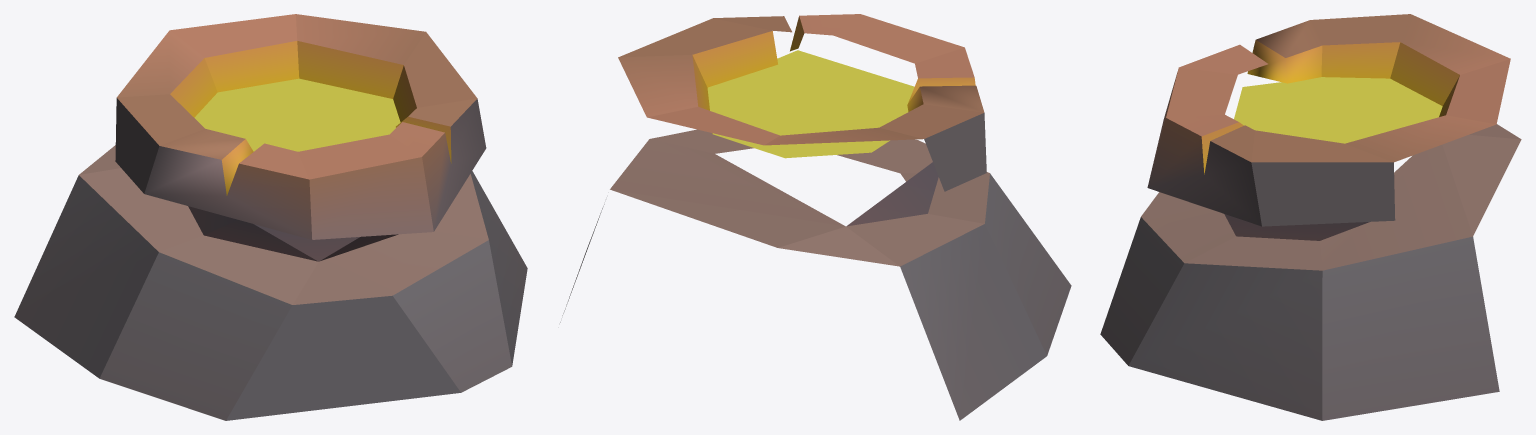
Rendered from LavaGeyser.glb.
The picture shows the model from 3 angles, left to right: view 1: azimuth 30°, elevation 25°; view 2: azimuth 150°, elevation 25°; view 3: azimuth 270°, elevation 25°; orthographic projection. The views are drawn at different scales.
Parts seen in each view (by area): view 1: LavaGeyser; view 2: LavaGeyser; view 3: LavaGeyser.
Part boxes in pixels (x1,y1,x2,y2): LavaGeyser: [14, 14, 527, 420]; LavaGeyser: [560, 14, 1071, 420]; LavaGeyser: [1100, 14, 1521, 420].
Bounding box in the file's own units: 0.8374 × 0.4292 × 0.7021.
